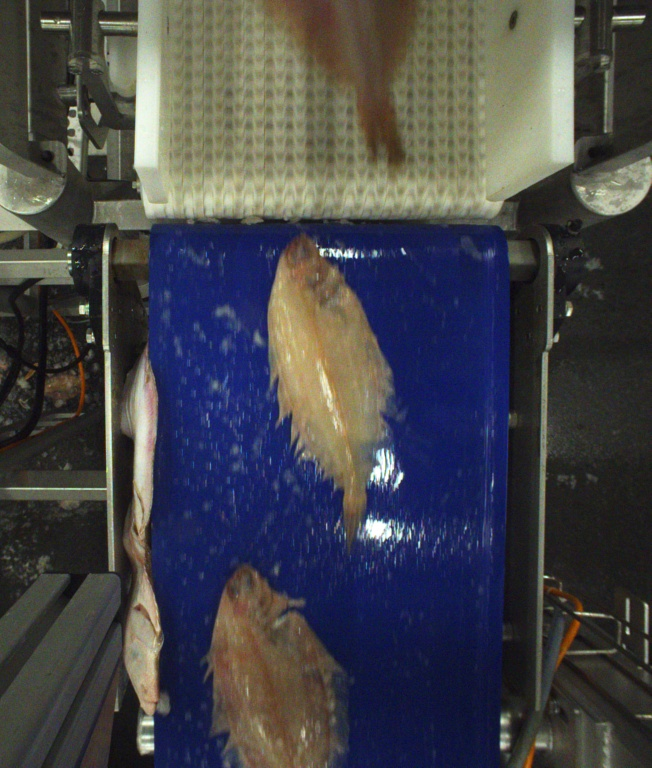WIT: (258, 0, 406, 167)
